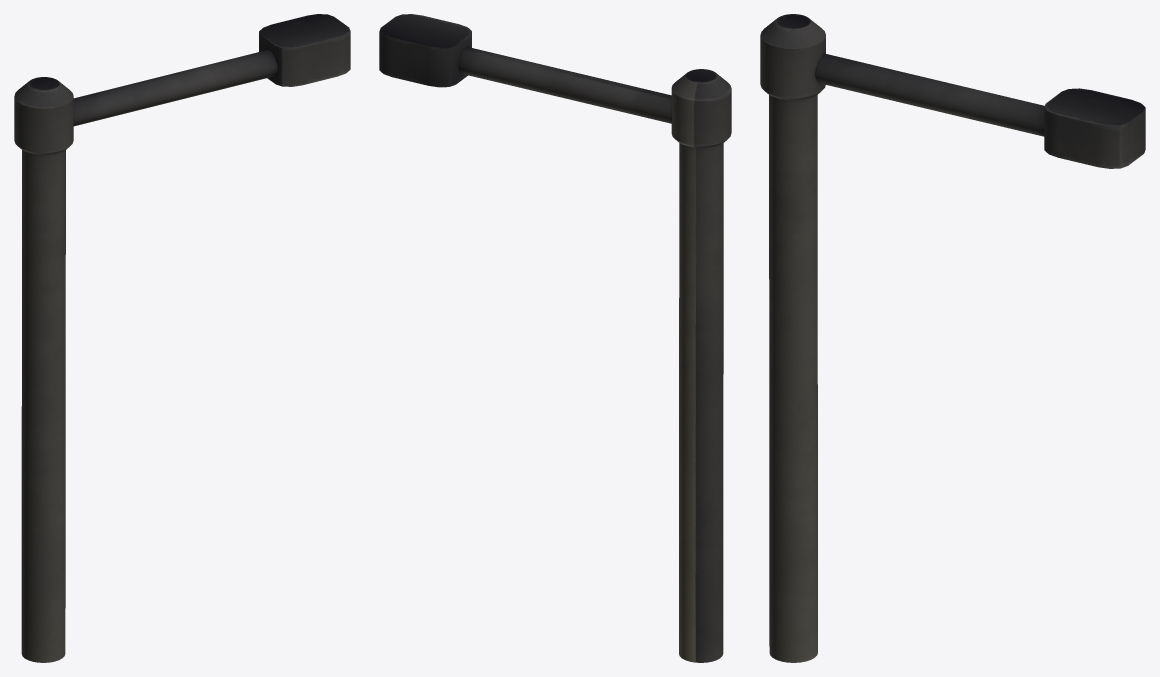
File: streetlamp2_model.fbx
3 renders of one model, left to right at view 1: azimuth 30°, elevation 25°; view 2: azimuth 150°, elevation 25°; view 3: azimuth 330°, elevation 25°, orthographic. The views are drawn at different scales.
Parts seen in each view (by area): view 1: pCylinder8, pCylinder1, pCube32; view 2: pCylinder8, pCylinder1, pCube32; view 3: pCylinder8, pCylinder1, pCube32.
Boxes of the visible parts, bbox=[...] form: pCylinder8: bbox=[14, 77, 73, 662]; pCylinder1: bbox=[73, 50, 277, 126]; pCube32: bbox=[259, 14, 350, 86]; pCylinder8: bbox=[671, 69, 731, 662]; pCylinder1: bbox=[458, 47, 671, 123]; pCube32: bbox=[379, 14, 471, 87]; pCylinder8: bbox=[760, 14, 825, 662]; pCylinder1: bbox=[815, 53, 1044, 136]; pCube32: bbox=[1044, 88, 1145, 168].
Size of the model in its own units: 58.69 by 97.14 by 11.11.
Materials: 1 (1 with a texture image).
